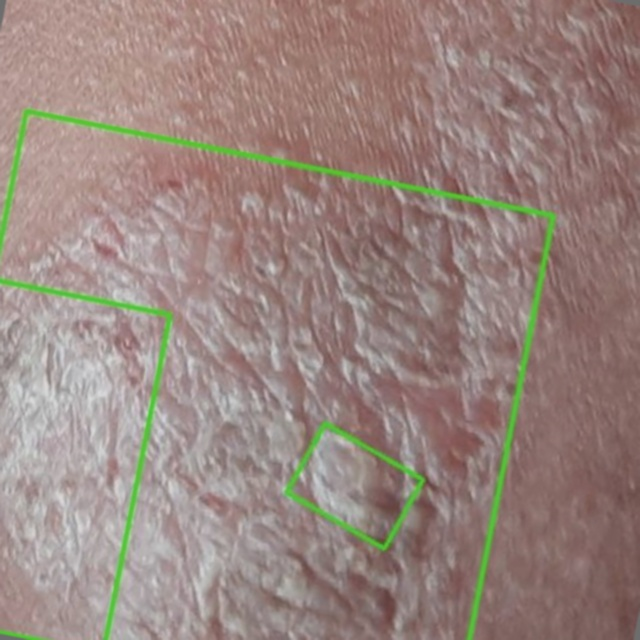Contact Dermatitis: (0, 111, 553, 639), (0, 281, 170, 639), (286, 423, 423, 547)
